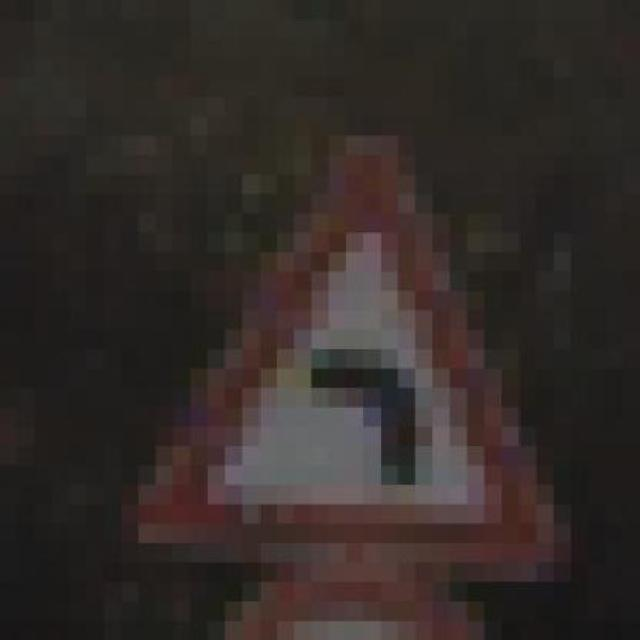Dangerous Left Curve Ahead: (138, 116, 554, 582)
